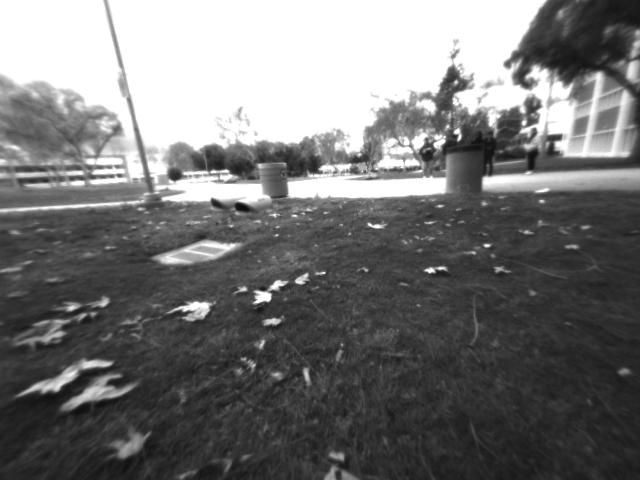trashcan: (439, 136, 492, 203), (251, 157, 294, 200)
